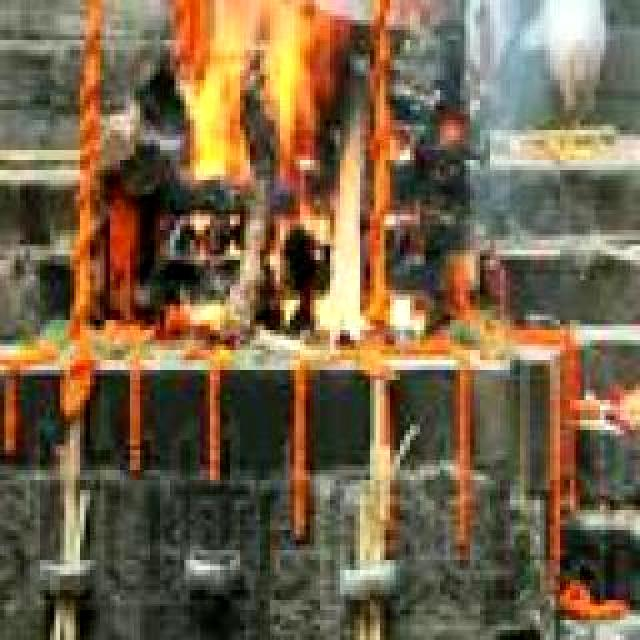fire: (188, 0, 370, 348)
